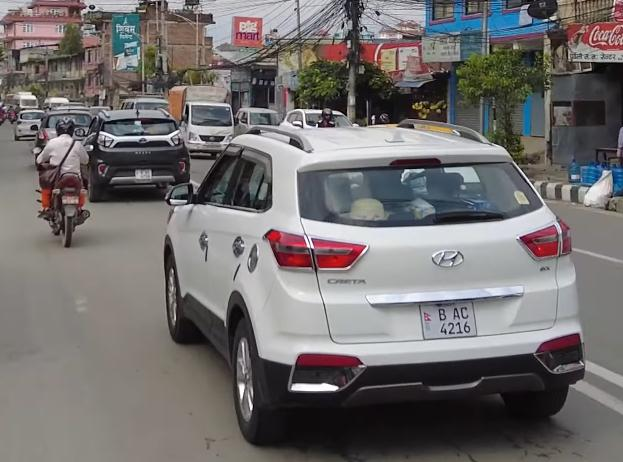bike: (34, 143, 99, 249)
car: (149, 118, 594, 432), (83, 107, 193, 193)
